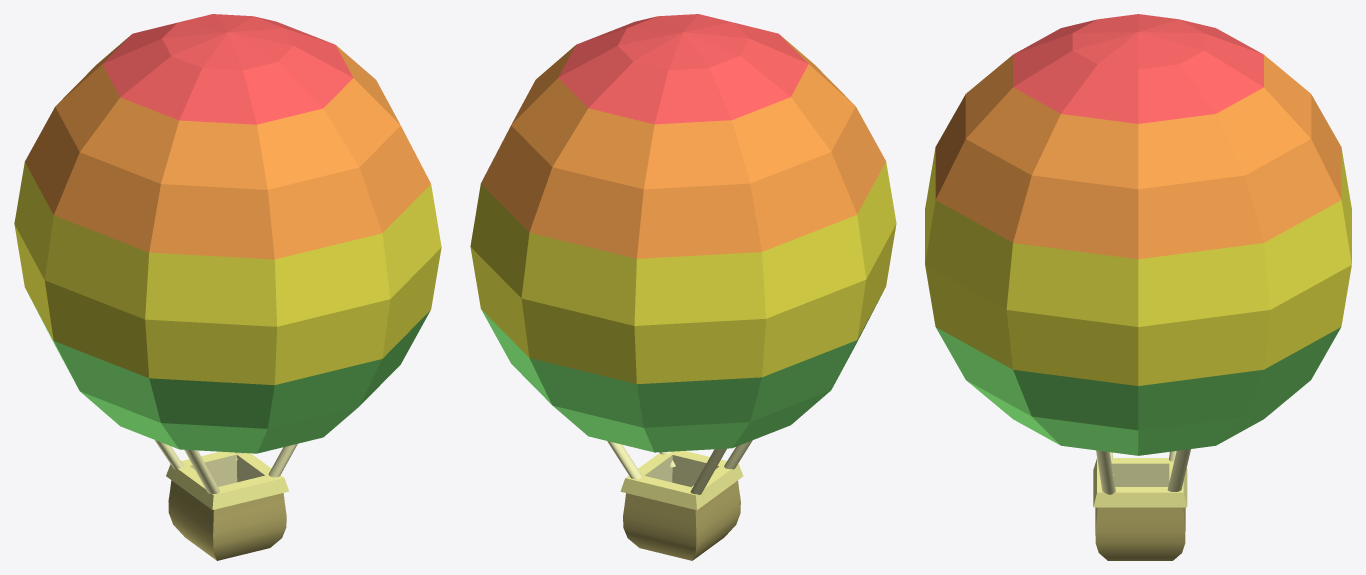
File: reqiqiu.fbx
The picture shows the model from 3 angles, left to right: view 1: azimuth 30°, elevation 25°; view 2: azimuth 150°, elevation 25°; view 3: azimuth 270°, elevation 25°; orthographic projection.
Visible parts, largest first — view 1: polySurface7, polySurface4, polySurface1, polySurface10, polySurface14, polySurface15, polySurface13, pCylinder3; view 2: polySurface7, polySurface4, polySurface1, polySurface10, polySurface14, polySurface15, polySurface13, pCylinder6; view 3: polySurface4, polySurface7, polySurface10, polySurface1, polySurface14, polySurface15, polySurface13, pCylinder5, pCylinder4.
Part boxes in pixels (x1,y1,x2,y2): polySurface7: (14, 162, 441, 385); polySurface4: (25, 35, 430, 259); polySurface1: (102, 14, 353, 124); polySurface10: (28, 294, 430, 453); polySurface14: (168, 480, 286, 560); polySurface15: (166, 451, 289, 509); polySurface13: (190, 454, 264, 486); pCylinder3: (184, 449, 220, 493); polySurface7: (470, 161, 896, 384); polySurface4: (481, 35, 885, 258); polySurface1: (558, 14, 808, 124); polySurface10: (481, 295, 881, 452); polySurface14: (623, 480, 740, 560); polySurface15: (620, 451, 743, 510); polySurface13: (644, 455, 718, 486); pCylinder6: (690, 448, 726, 494); polySurface4: (935, 55, 1341, 259); polySurface7: (925, 147, 1351, 385); polySurface10: (936, 327, 1340, 455); polySurface1: (1013, 14, 1263, 123); polySurface14: (1095, 507, 1185, 560); polySurface15: (1093, 458, 1187, 507); polySurface13: (1112, 463, 1169, 486); pCylinder5: (1167, 449, 1190, 491); pCylinder4: (1096, 450, 1115, 494).
Bounding box in the file's own units: 1.5 × 1.5 × 2.
